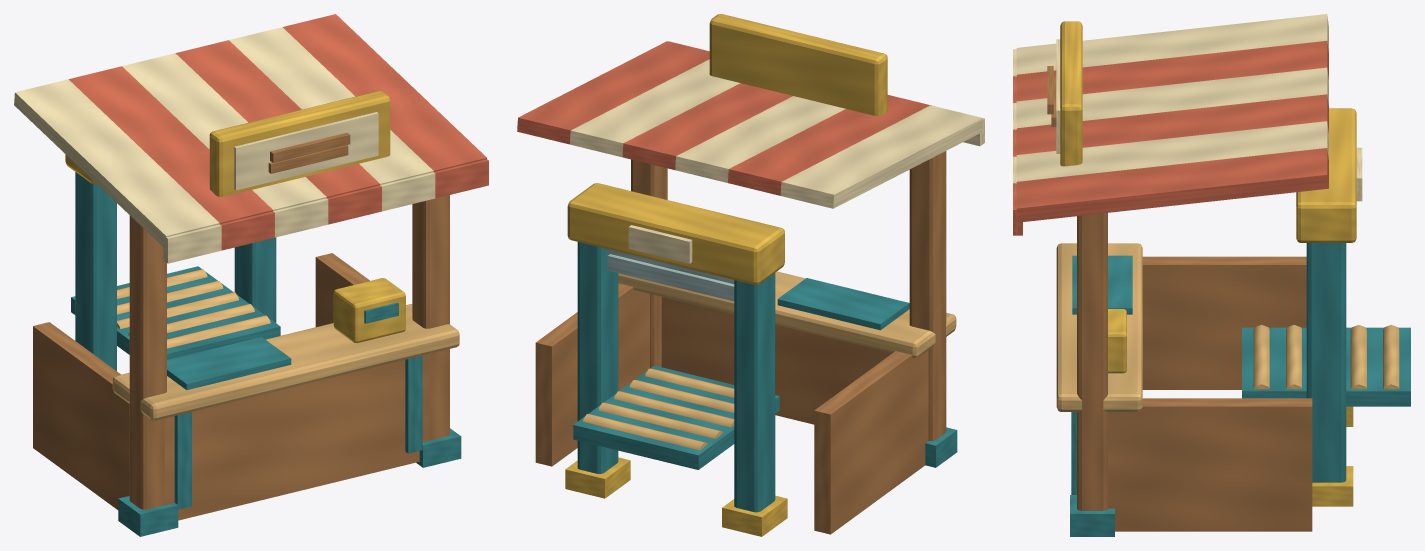
File: industry-market-stall.glb
The picture shows the model from 3 angles, left to right: view 1: azimuth 30°, elevation 25°; view 2: azimuth 150°, elevation 25°; view 3: azimuth 270°, elevation 25°; orthographic projection. The views are drawn at different scales.
Parts seen in each view (by area): view 1: industry-market-stall-mesh; view 2: industry-market-stall-mesh; view 3: industry-market-stall-mesh.
Boxes of the visible parts, x1=… form: industry-market-stall-mesh: x1=14, y1=14, x2=488, y2=536; industry-market-stall-mesh: x1=517, y1=14, x2=984, y2=536; industry-market-stall-mesh: x1=1013, y1=14, x2=1410, y2=536.
Size of the model in its own units: 2.7 by 3.09 by 2.83.
Materials: 1 (1 with a texture image).
